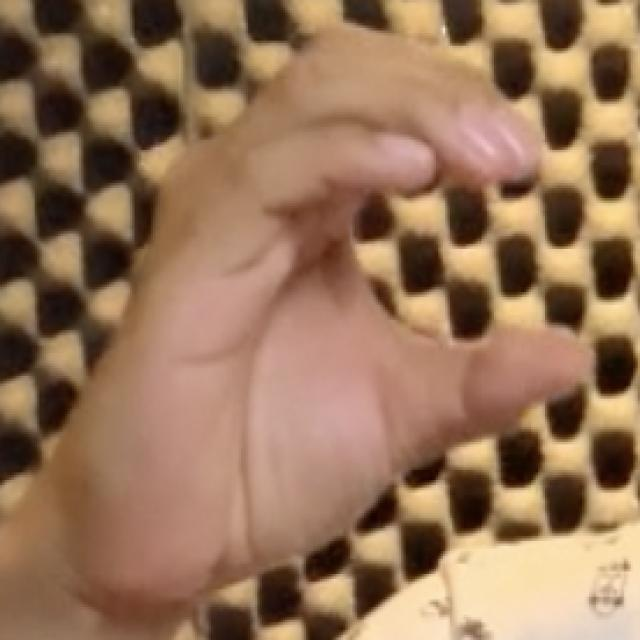C: (44, 16, 602, 612)
